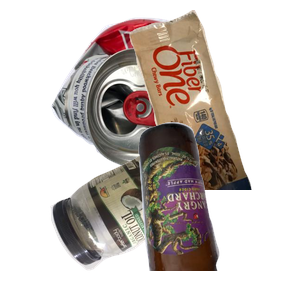glass: (136, 120, 300, 300)
metal: (48, 15, 251, 175)
plastic: (48, 152, 228, 300)
trash: (127, 10, 300, 190)
